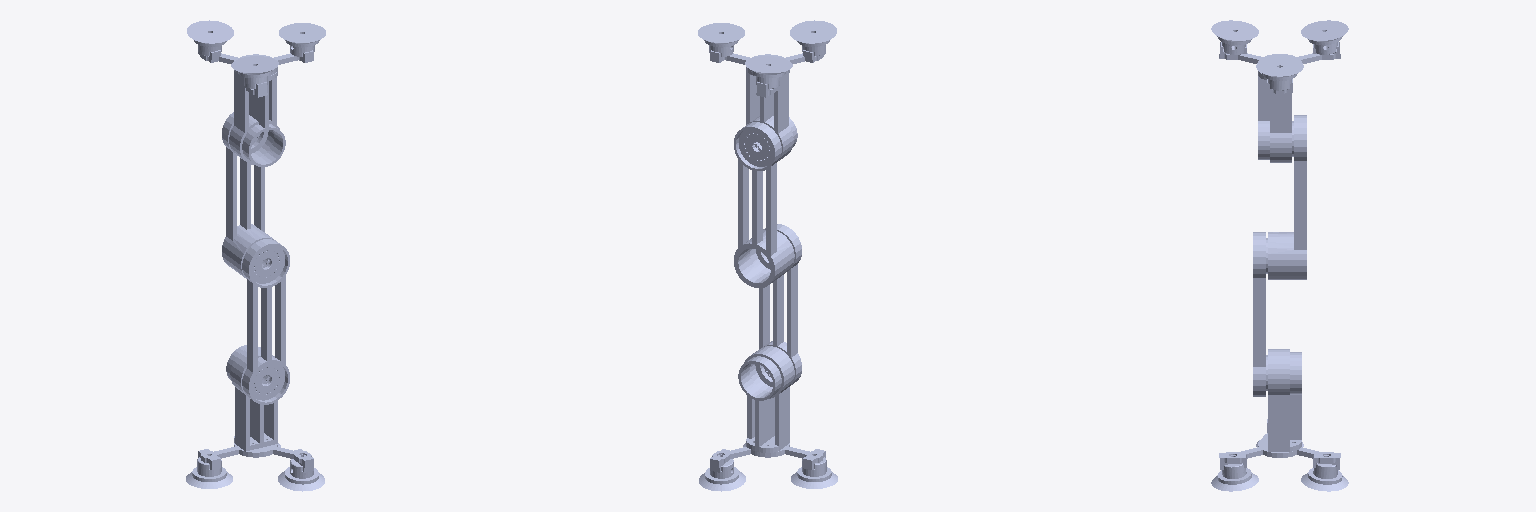
The robot description file, URDF, robot "bigmama9":
<?xml version="1.0" encoding="utf-8" ?>
<!-- This URDF was automatically created by SolidWorks to URDF Exporter! Originally created by [author] ([email redacted]) 
     Commit Version: 1.6.0-1-g15f4949  Build Version: 1.6.7594.29634
     For more information, please see http://wiki.ros.org/sw_urdf_exporter -->
<robot name="bigmama9">
    <link name="world"/>
	<joint name="vir" type="fixed">
 		 <parent link="world"/>
		 <child link="Link_0"/>
	</joint>
    <link name="Link_0">
        
<inertial>
            <origin xyz="0.00037477 0.0023479 0.025602" rpy="0 0 0" />
            <mass value="0.66851" />
            <inertia ixx="0.0013719" ixy="-1.2212E-08" ixz="2.6548E-06" iyy="0.0014206" iyz="-2.2282E-05" izz="0.00098721" />
        </inertial>

        <visual>
            <origin xyz="0 0 0" rpy="0 0 0" />
            <geometry>
                <mesh filename="package://bigmama9/meshes/Link_0.STL" />
            </geometry>
            <material name="">
                <color rgba="0.79216 0.81961 0.93333 1" />
            </material>
        </visual>
        <collision>
            <origin xyz="0 0 0" rpy="0 0 0" />
            <geometry>
                <mesh filename="package://bigmama9/meshes/Link_0.STL" />
            </geometry>
        </collision>
    </link>
    <link name="Link_1">
        
<inertial>
            <origin xyz="0.12 -5.0182E-14 0.015" rpy="0 0 0" />
            <mass value="0.2828" />
            <inertia ixx="0.0001953" ixy="-1.3373E-20" ixz="1.9025E-17" iyy="0.0027507" iyz="1.3416E-21" izz="0.0029223" />
        </inertial>

        <visual>
            <origin xyz="0 0 0" rpy="0 0 0" />
            <geometry>
                <mesh filename="package://bigmama9/meshes/Link_1.STL" />
            </geometry>
            <material name="">
                <color rgba="0.79216 0.81961 0.93333 1" />
            </material>
        </visual>
        <collision>
            <origin xyz="0 0 0" rpy="0 0 0" />
            <geometry>
                <mesh filename="package://bigmama9/meshes/Link_1.STL" />
            </geometry>
        </collision>
    </link>
    <joint name="Joint_1" type="revolute">
        <origin xyz="0 -0.022 0.155" rpy="1.5708 -1.5708 0" />
        <parent link="Link_0" />
        <child link="Link_1" />
        <axis xyz="0 0 -1" />
        <limit lower="-3.14" upper="3.14" effort="100" velocity="0.1" />
    </joint>
    <link name="Link_2">
        
<inertial>
            <origin xyz="0.097793 7.2164E-15 -0.051815" rpy="0 0 0" />
            <mass value="0.34706" />
            <inertia ixx="0.00034654" ixy="-3.148E-18" ixz="0.00024386" iyy="0.003656" iyz="3.5619E-19" izz="0.0038143" />
        </inertial>

        <visual>
            <origin xyz="0 0 0" rpy="0 0 0" />
            <geometry>
                <mesh filename="package://bigmama9/meshes/Link_2.STL" />
            </geometry>
            <material name="">
                <color rgba="0.79216 0.81961 0.93333 1" />
            </material>
        </visual>
        <collision>
            <origin xyz="0 0 0" rpy="0 0 0" />
            <geometry>
                <mesh filename="package://bigmama9/meshes/Link_2.STL" />
            </geometry>
        </collision>
    </link>
    <joint name="Joint_2" type="revolute">
        <origin xyz="0.24 0 0" rpy="0 0 0" />
        <parent link="Link_1" />
        <child link="Link_2" />
        <axis xyz="0 0 -1" />
        <limit lower="-3.14" upper="3.14" effort="100" velocity="0.1" />
    </joint>
    <link name="Link_3">
        
<inertial>
            <origin xyz="0.1294 0.00037477 0.024348" rpy="0 0 0" />
            <mass value="0.66851" />
            <inertia ixx="0.00098721" ixy="-2.6548E-06" ixz="2.2282E-05" iyy="0.0013719" iyz="-1.2403E-08" izz="0.0014206" />
        </inertial>

        <visual>
            <origin xyz="0 0 0" rpy="0 0 0" />
            <geometry>
                <mesh filename="package://bigmama9/meshes/Link_3.STL" />
            </geometry>
            <material name="">
                <color rgba="0.79216 0.81961 0.93333 1" />
            </material>
        </visual>
        <collision>
            <origin xyz="0 0 0" rpy="0 0 0" />
            <geometry>
                <mesh filename="package://bigmama9/meshes/Link_3.STL" />
            </geometry>
        </collision>
    </link>
    <joint name="Joint_3" type="revolute">
        <origin xyz="0.24 0 -0.044" rpy="0 0 0" />
        <parent link="Link_2" />
        <child link="Link_3" />
        <axis xyz="0 0 1" />
        <limit lower="-3.14" upper="3.14" effort="100" velocity="0.1" />
    </joint>
    
<transmission name="trans_Joint_1">
        <type>transmission_interface/SimpleTransmission</type>
        <joint name="Joint_1">
            <hardwareInterface>hardware_interface/PositionJointInterface</hardwareInterface>
        </joint>
        <actuator name="Joint_1_motor">
            <hardwareInterface>hardware_interface/PositionJointInterface</hardwareInterface>
            <mechanicalReduction>1</mechanicalReduction>
        </actuator>
    </transmission>
    <transmission name="trans_Joint_2">
        <type>transmission_interface/SimpleTransmission</type>
        <joint name="Joint_2">
            <hardwareInterface>hardware_interface/PositionJointInterface</hardwareInterface>
        </joint>
        <actuator name="Joint_2_motor">
            <hardwareInterface>hardware_interface/PositionJointInterface</hardwareInterface>
            <mechanicalReduction>1</mechanicalReduction>
        </actuator>
    </transmission>
    <transmission name="trans_Joint_3">
        <type>transmission_interface/SimpleTransmission</type>
        <joint name="Joint_3">
            <hardwareInterface>hardware_interface/PositionJointInterface</hardwareInterface>
        </joint>
        <actuator name="Joint_3_motor">
            <hardwareInterface>hardware_interface/PositionJointInterface</hardwareInterface>
            <mechanicalReduction>1</mechanicalReduction>
        </actuator>
    </transmission>
    <gazebo>
        <plugin name="gazebo_ros_control" filename="libgazebo_ros_control.so">
            <robotNamespace>/</robotNamespace>
        </plugin>
    </gazebo>
</robot>

--- What the picture shows (computed from the rendered views, not written in the file) ---
Views: 3 orthographic renders of the robot side by side, from view 1: azimuth 30°, elevation 25°; view 2: azimuth 150°, elevation 25°; view 3: azimuth 270°, elevation 25°.
Robot: bigmama9 — 5 links, 4 joints (3 revolute, 1 fixed); root link world; default pose: every joint at zero.
Visible links, largest first — view 1: Link_3, Link_1, Link_0, Link_2; view 2: Link_0, Link_2, Link_3, Link_1; view 3: Link_0, Link_3, Link_2, Link_1.
Link boxes in pixels (left/top/right/bottom): Link_3: left=187, top=20, right=325, bottom=166; Link_1: left=242, top=239, right=289, bottom=404; Link_0: left=186, top=345, right=324, bottom=491; Link_2: left=222, top=112, right=275, bottom=278; Link_0: left=699, top=346, right=837, bottom=491; Link_2: left=734, top=122, right=794, bottom=287; Link_3: left=698, top=20, right=836, bottom=160; Link_1: left=755, top=224, right=801, bottom=386; Link_0: left=1211, top=349, right=1348, bottom=491; Link_3: left=1211, top=20, right=1348, bottom=162; Link_2: left=1268, top=115, right=1306, bottom=279; Link_1: left=1253, top=232, right=1267, bottom=396.
Size in the robot's own frame: 0.2887 by 0.2551 by 0.8835 metres.
4 mesh visuals loaded from 4 distinct referenced files (4 binary STL).
